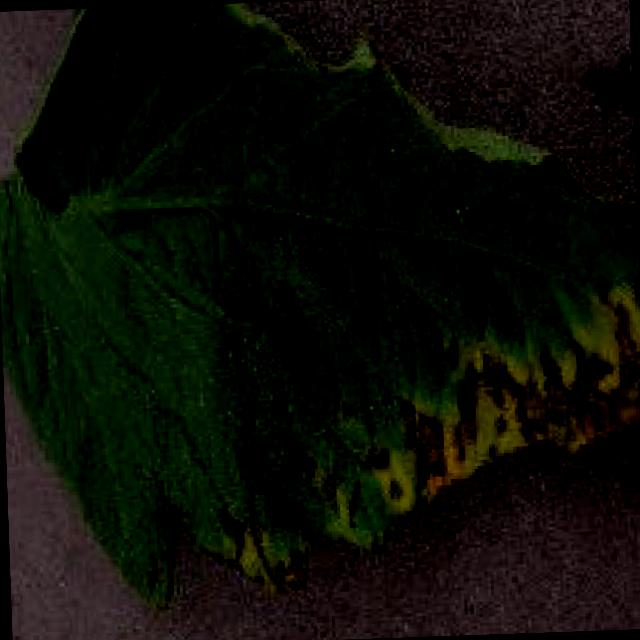bacterial spot: (0, 2, 640, 608)
